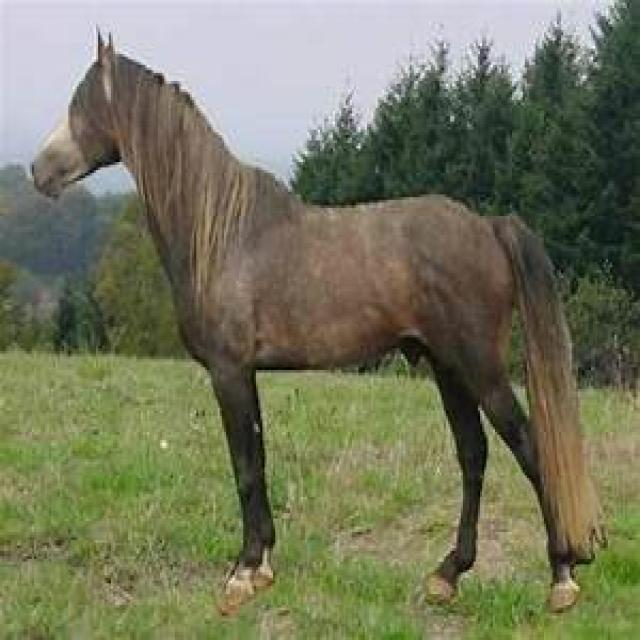horse: (32, 38, 601, 612)
